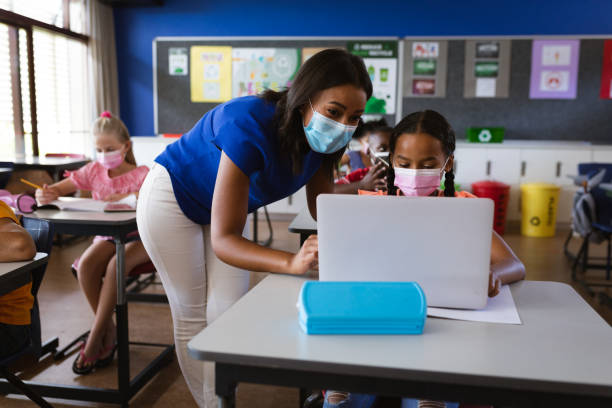with mask: (292, 47, 373, 157), (393, 118, 454, 202), (87, 121, 132, 176)
